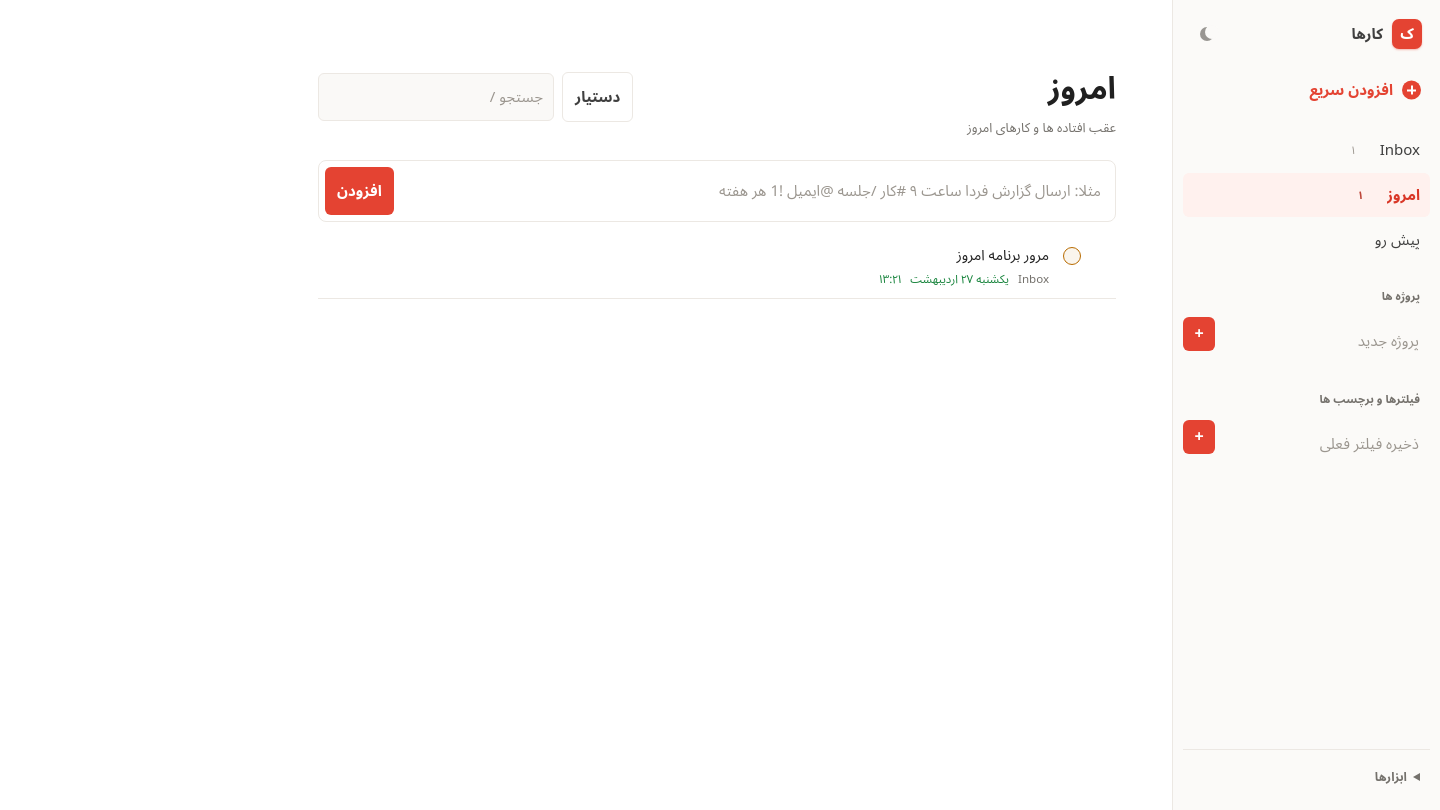
Test case: App › warns when the saved assistant model is no longer installed
Click the button "دستیار". click: (598,97)
box: [562, 72, 633, 122]
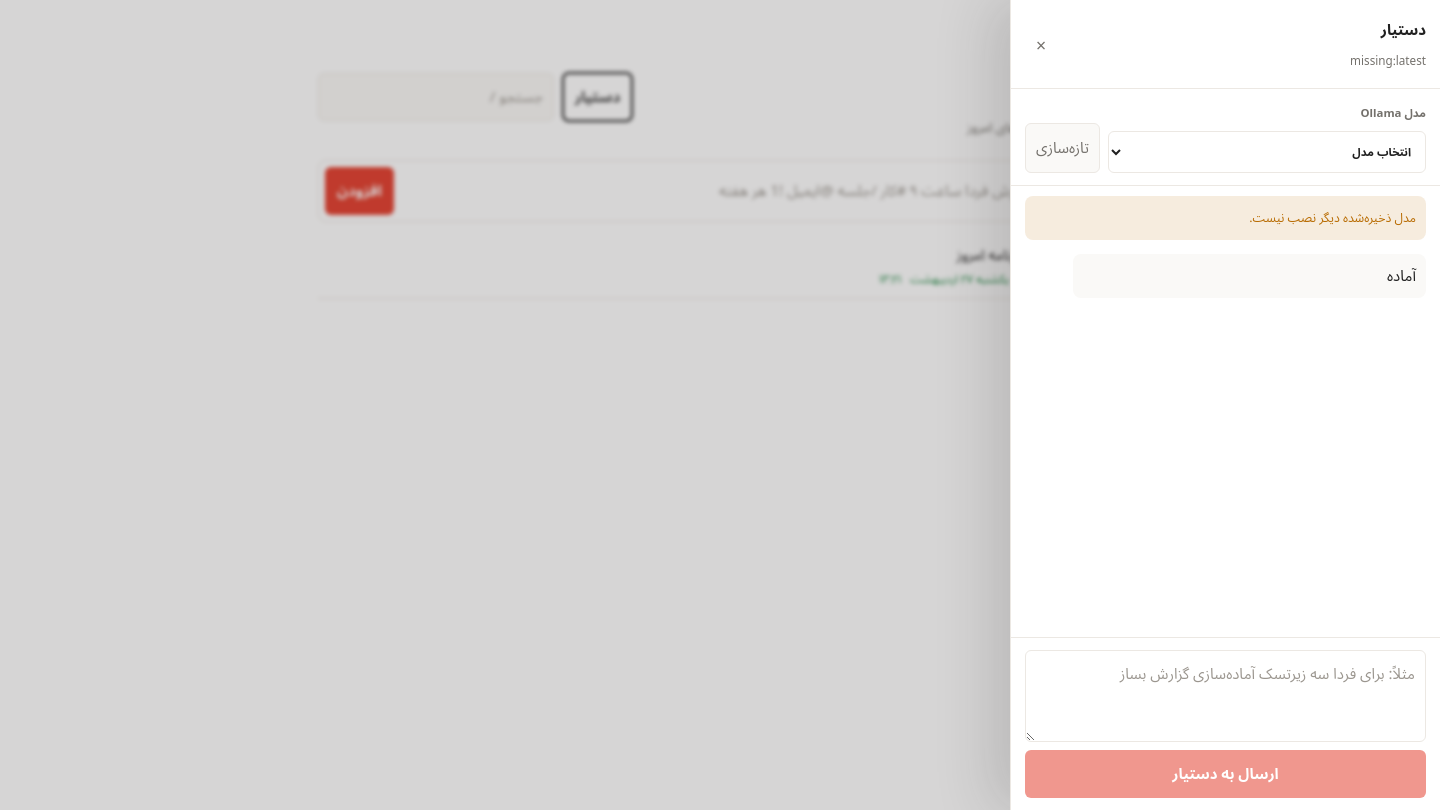
Result: the text "مدل ذخیره‌شده دیگر نصب نیست." is shown at [1025, 196, 1426, 240]
Result: the button "ارسال به دستیار" is disabled at [1025, 750, 1426, 798]
